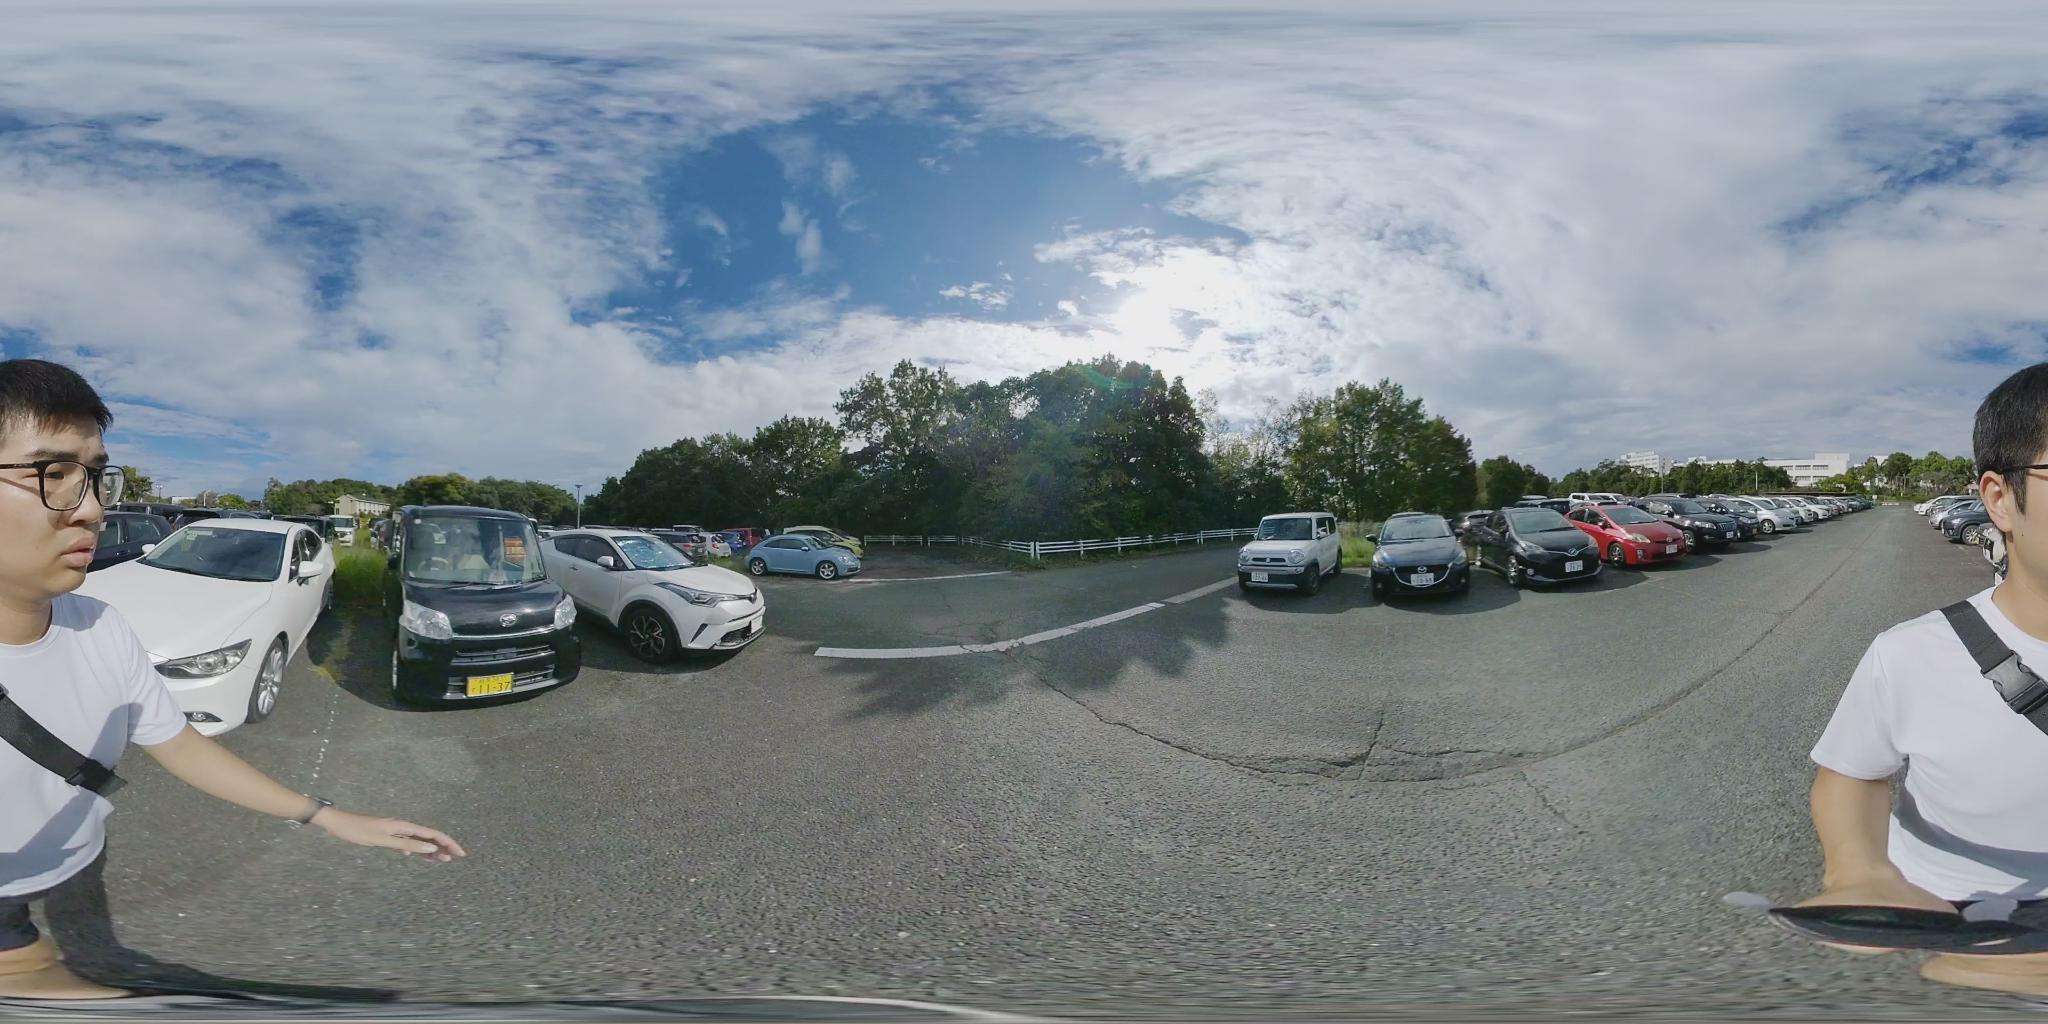car: (347, 502, 583, 711), (539, 526, 771, 669), (1485, 511, 1597, 589), (1236, 516, 1348, 592), (1371, 515, 1464, 601), (1571, 504, 1693, 564), (1648, 496, 1774, 542), (754, 528, 866, 579), (1735, 498, 1809, 530), (1809, 496, 1876, 520)
